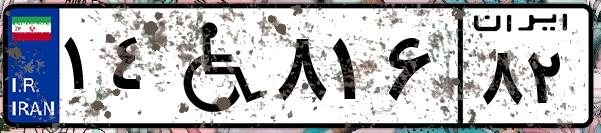1: (330, 28, 385, 110), (57, 26, 110, 100)
2: (525, 38, 570, 115)
4: (110, 28, 158, 98)
6: (385, 28, 445, 110)
8: (270, 28, 330, 110), (475, 38, 525, 113)
ژ (معلولین و جانبازان): (158, 12, 270, 120)
